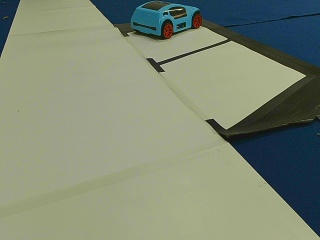car: (129, 2, 202, 38)
